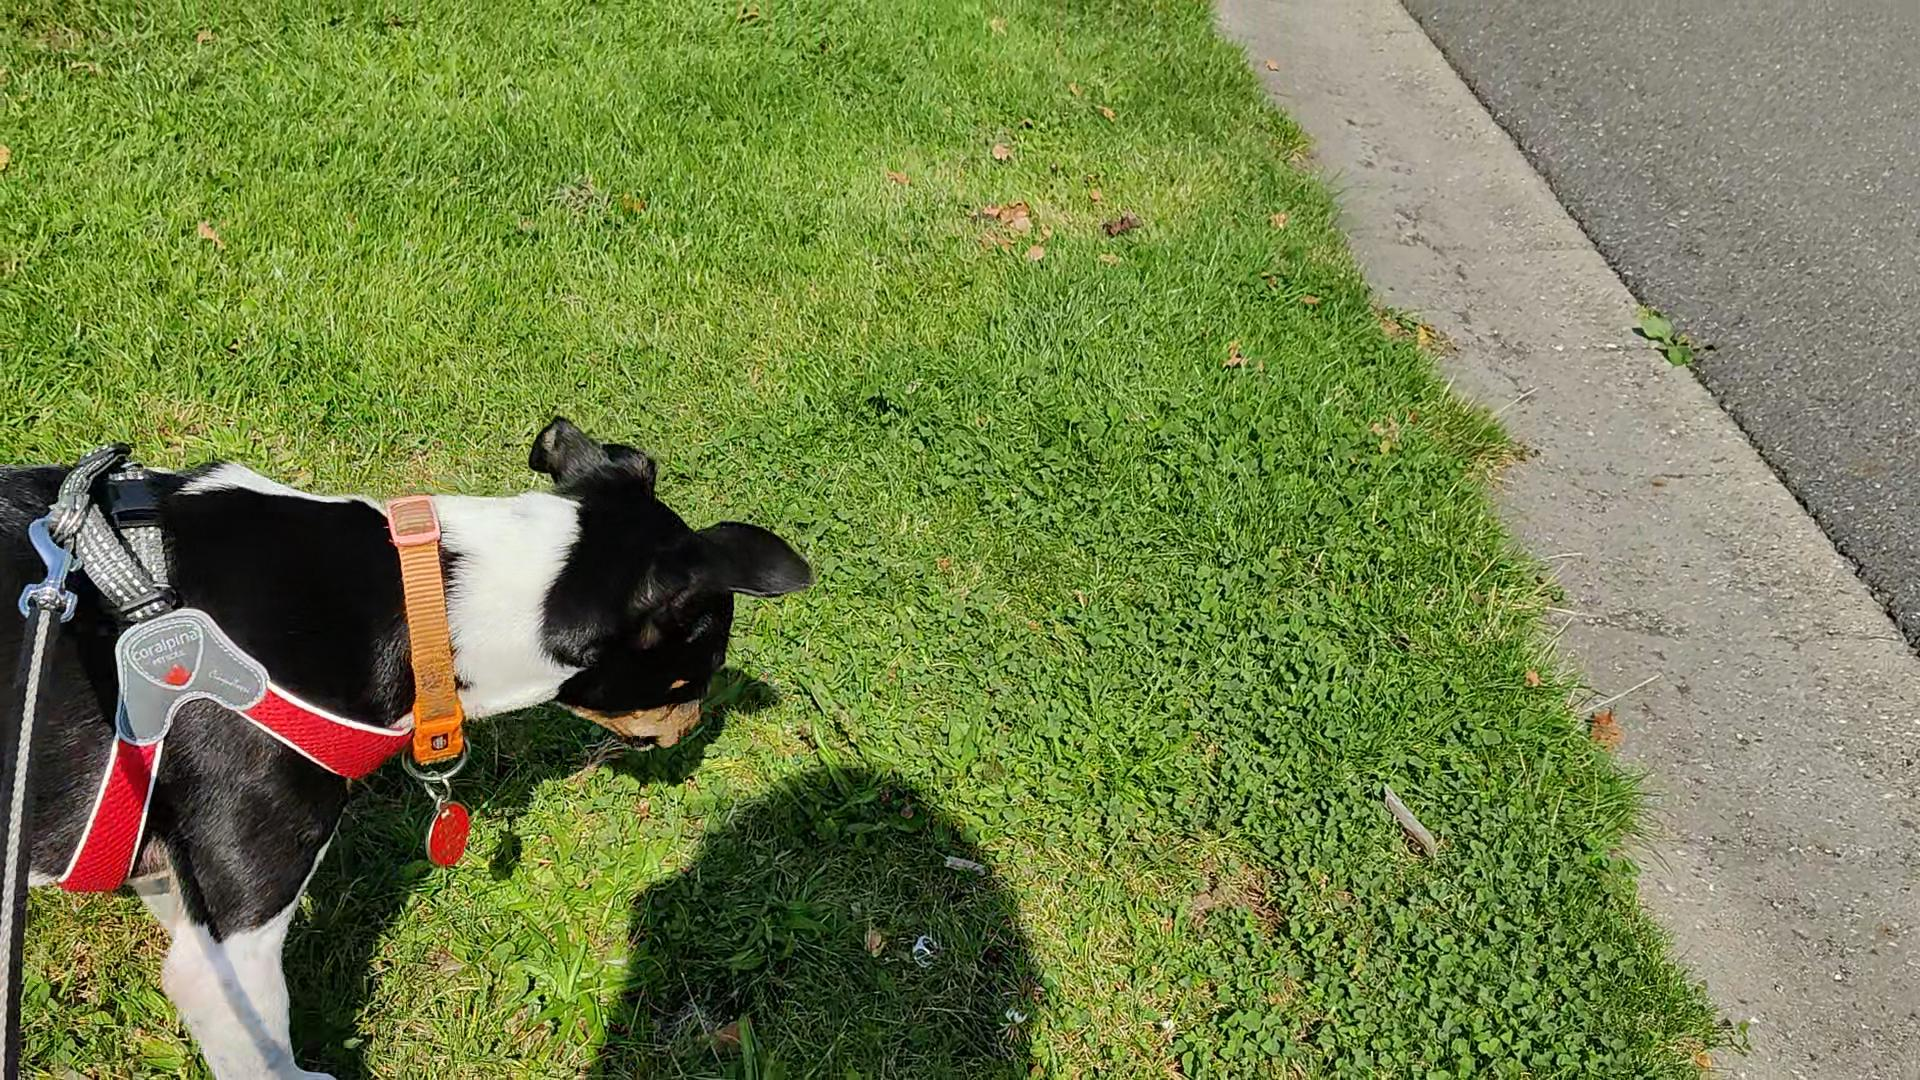Dog: (0, 411, 822, 1079)
